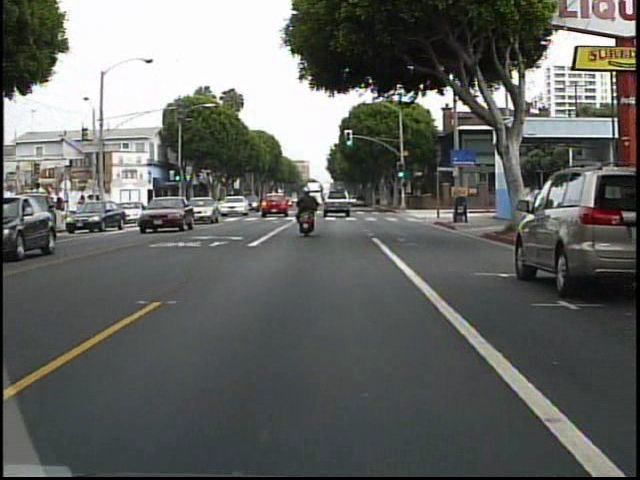person: (293, 183, 323, 239)
